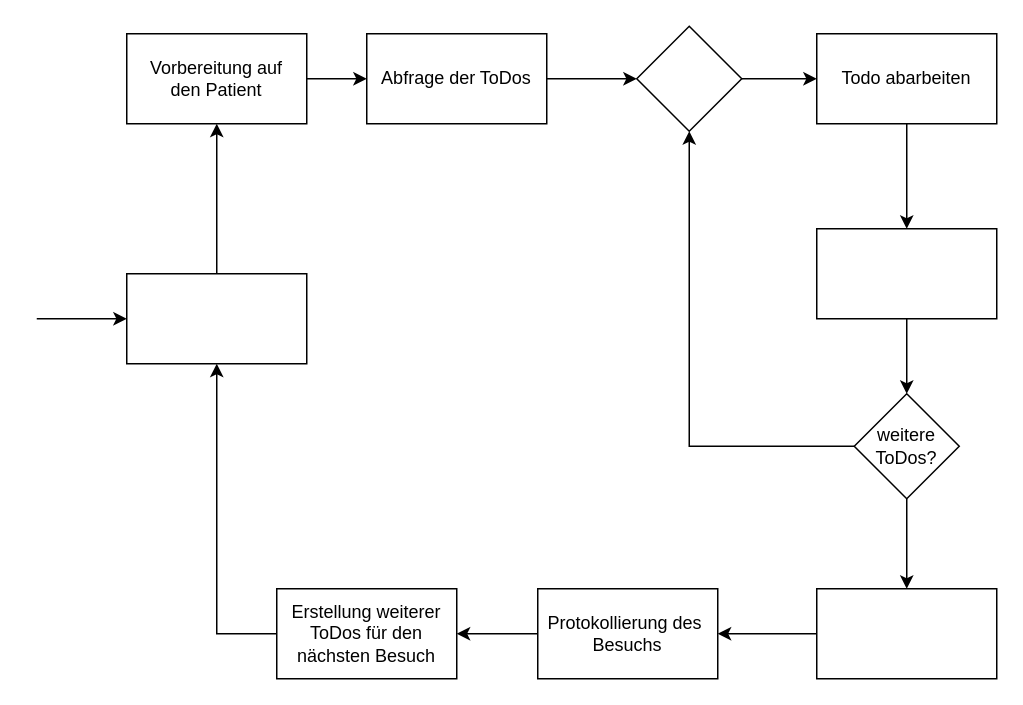
Some shapes in this 1023 by 705 pixel diagram are drawn without their labels. Each missing label, with the centre of its shape:
"Erfassung des allgemeinen Zustandes des Patienten" goes at (x=906, y=633).
"Fahrt zum Patienten" goes at (x=216, y=318).
"Protokoll erstellen" goes at (x=906, y=273).
